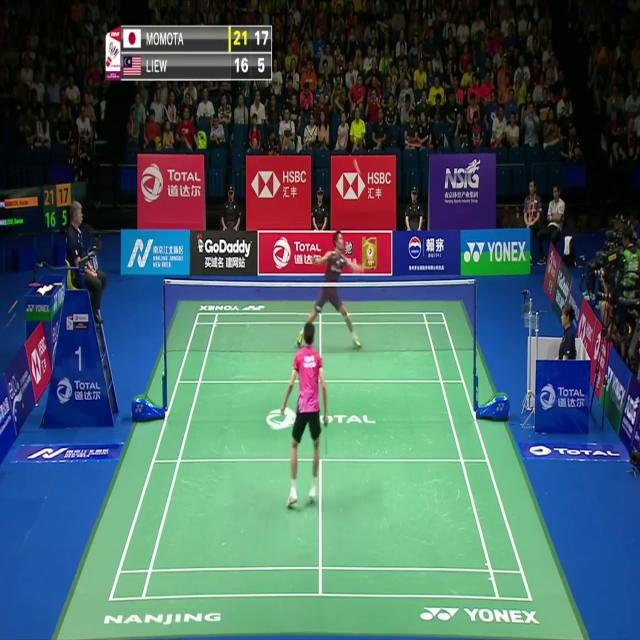Shuttlecock: (352, 158, 359, 169)
